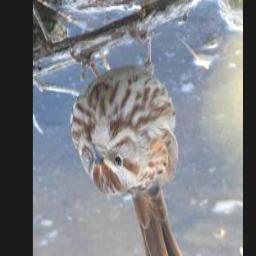Sparrow: (67, 17, 197, 256)
